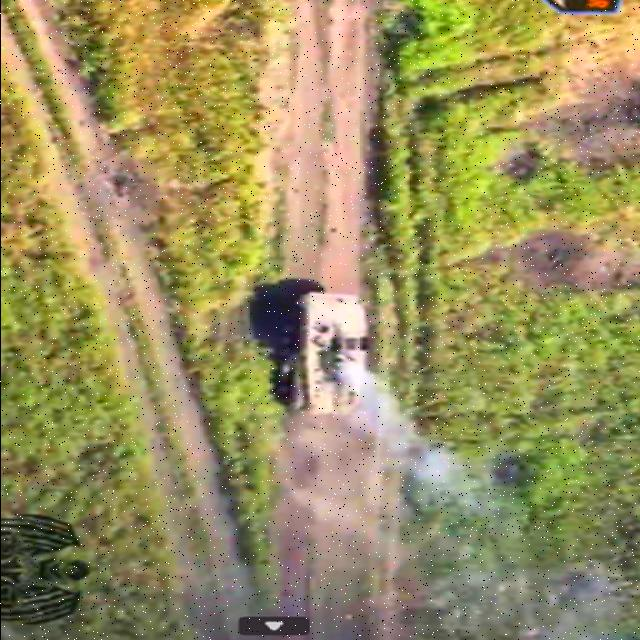APC-IFV: (266, 285, 381, 419)
